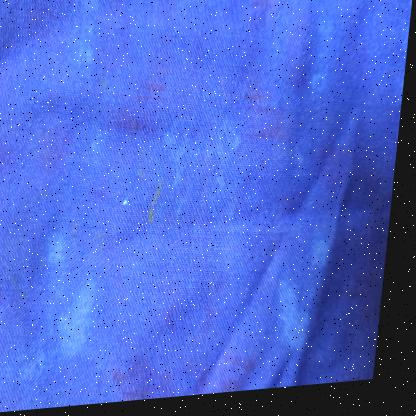spot: (149, 180, 171, 233), (140, 154, 153, 194), (132, 97, 160, 115), (143, 82, 184, 94), (257, 132, 292, 144), (247, 98, 270, 105), (102, 82, 110, 94)
